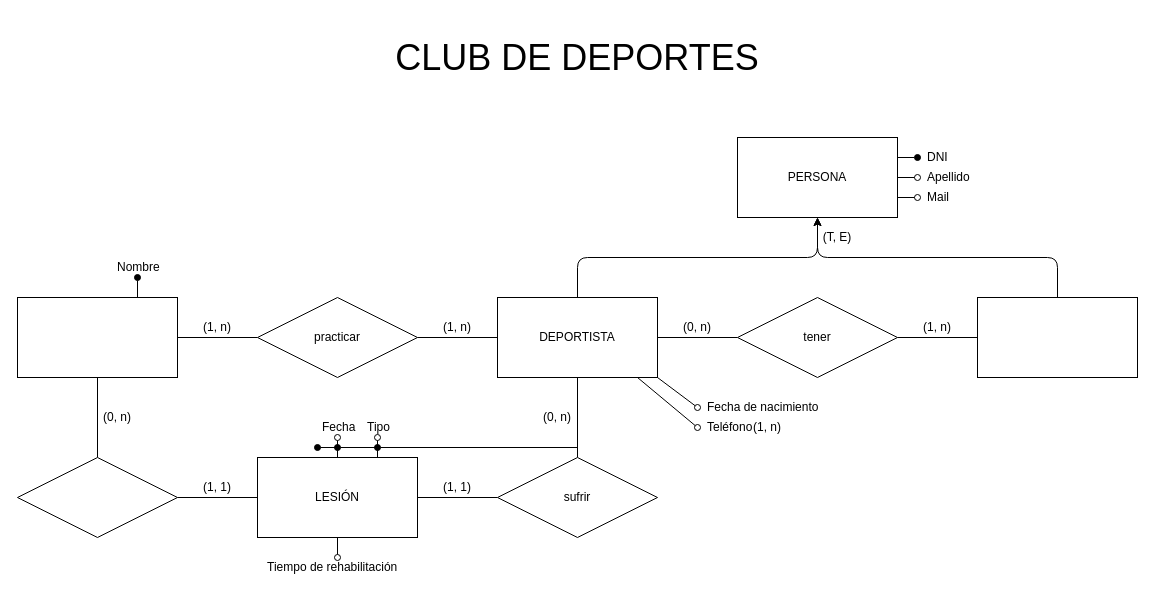
Some shapes in this 1155 by 594 pixel diagram are drawn without their labels. The centre of each missing label's shape, as x and y in pixels:
"causar" goes at (97,497).
"DEPORTE" goes at (97,337).
"REPRESENTANTE" goes at (1057,337).
